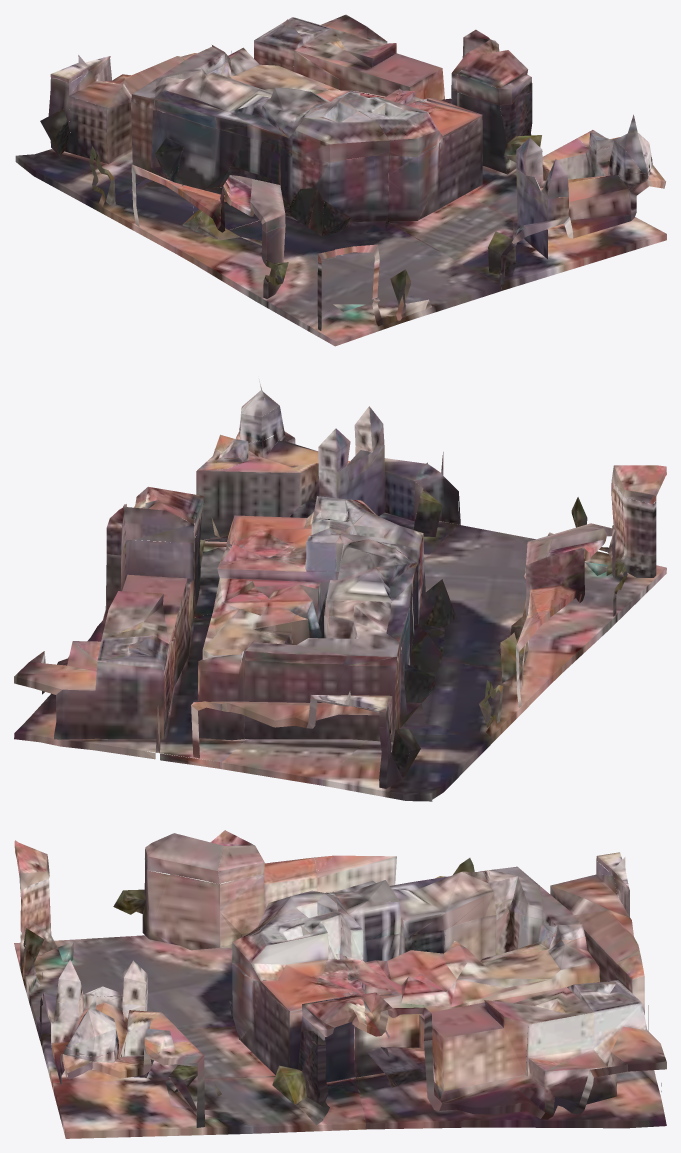
3 renders of one model, top to bottom at view 1: azimuth 30°, elevation 25°; view 2: azimuth 150°, elevation 25°; view 3: azimuth 270°, elevation 25°, orthographic. The views are drawn at different scales.
Visible parts, largest first — view 1: Mesh_0; view 2: Mesh_0; view 3: Mesh_0.
Part boxes in pixels (<box>): Mesh_0: <box>15,14,666,346</box>; Mesh_0: <box>14,378,666,801</box>; Mesh_0: <box>14,830,666,1138</box>.
Bounding box in the file's own units: 134 × 42.48 × 165.
2 materials, 2 textured.
